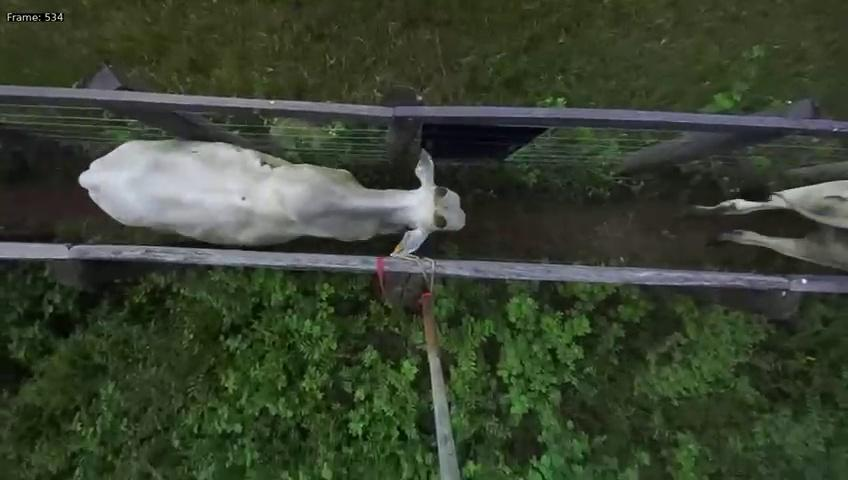cattle: (73, 127, 469, 257)
